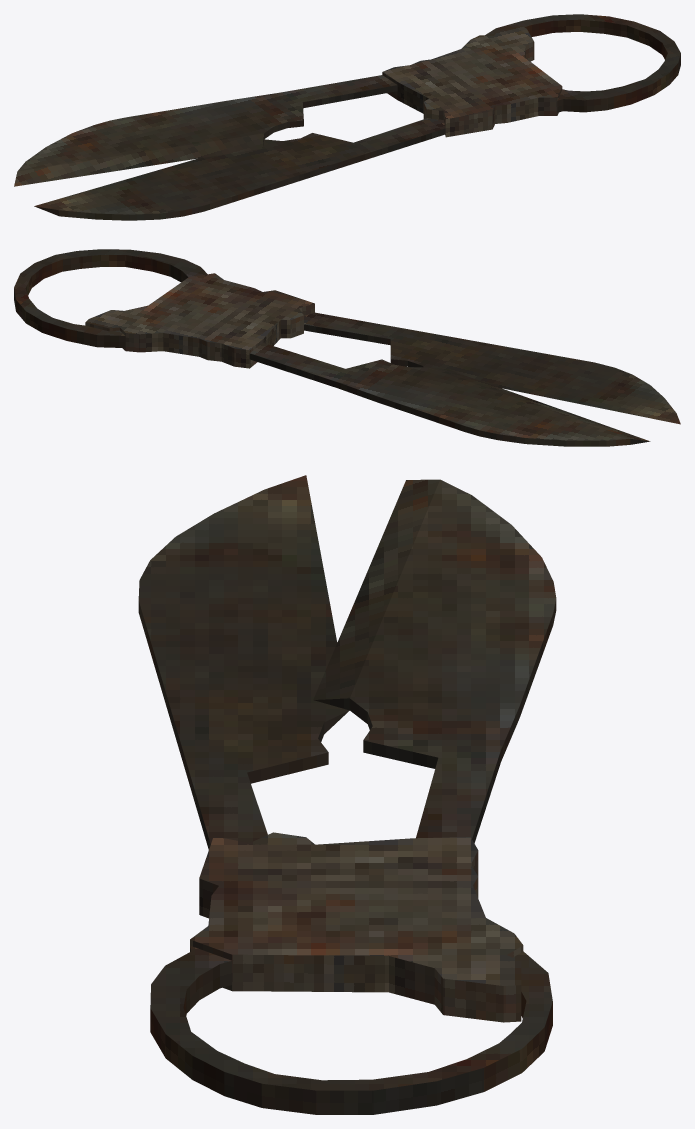
File: misc_tool_mx_2.glb
3 views of the same model, one above another, from view 1: azimuth 30°, elevation 25°; view 2: azimuth 150°, elevation 25°; view 3: azimuth 270°, elevation 25° (orthographic). The views are drawn at different scales.
Visible parts, largest first — view 1: misc_tool_mx_2; view 2: misc_tool_mx_2; view 3: misc_tool_mx_2.
Boxes of the visible parts, <box> form: misc_tool_mx_2: <box>14,14,680,220</box>; misc_tool_mx_2: <box>14,249,680,446</box>; misc_tool_mx_2: <box>138,475,556,1114</box>.
Bounding box in the file's own units: 0.2768 × 0.0075 × 0.0778.
1 material, 1 textured.
